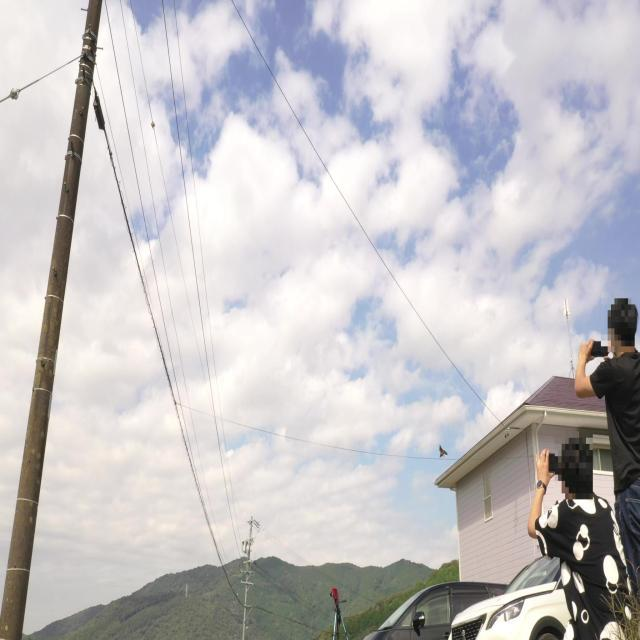Birds: (431, 436, 450, 472)
